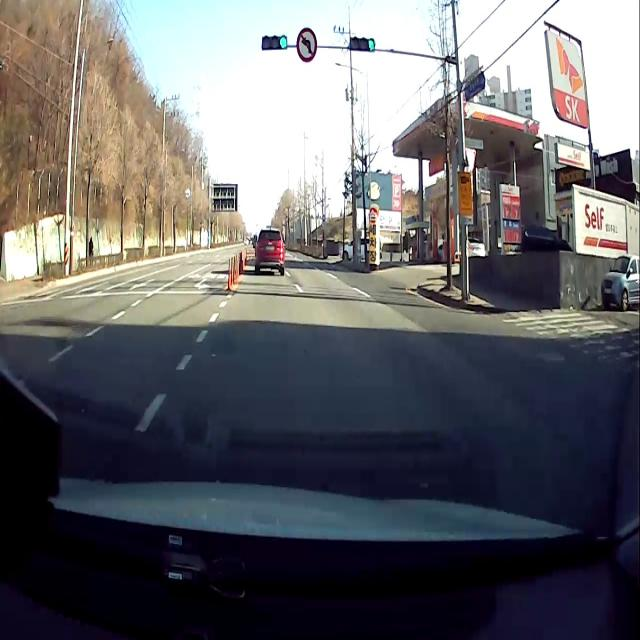Green Light: (278, 34, 288, 50), (367, 37, 375, 51)
